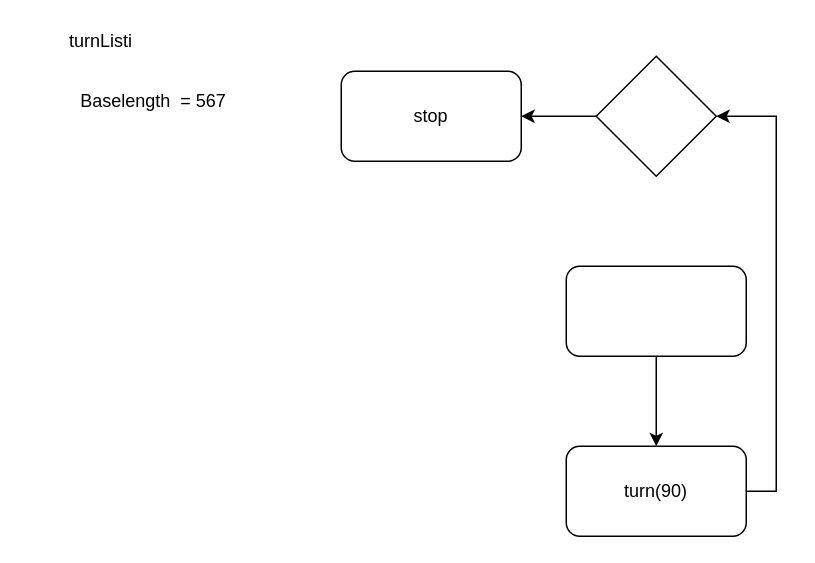
Some shapes in this 815 by 563 pixel diagram are drawn without their labels. Each missing label, with the centre of its shape:
"drive(Baselength,i)" belongs at point (655, 310).
"for turnlisti" belongs at point (655, 115).
